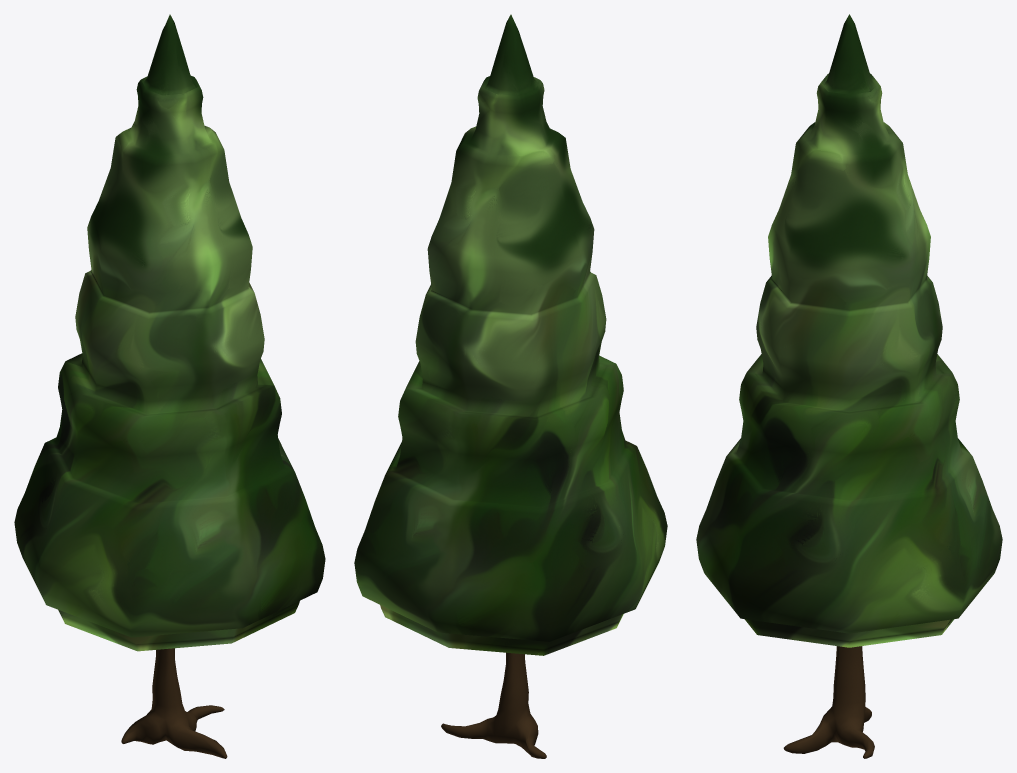
File: Fir_Tree.fbx
3 views of the same model, side by side, from view 1: azimuth 30°, elevation 25°; view 2: azimuth 150°, elevation 25°; view 3: azimuth 270°, elevation 25° (orthographic).
Visible parts, largest first — view 1: Fir_Tree; view 2: Fir_Tree; view 3: Fir_Tree.
Part boxes in pixels (x1,y1,x2,y2): Fir_Tree: (14, 14, 325, 758); Fir_Tree: (354, 14, 667, 758); Fir_Tree: (696, 14, 1002, 758).
Size of the model in its own units: 488 by 1303 by 497.
Materials: 1 (1 with a texture image).
